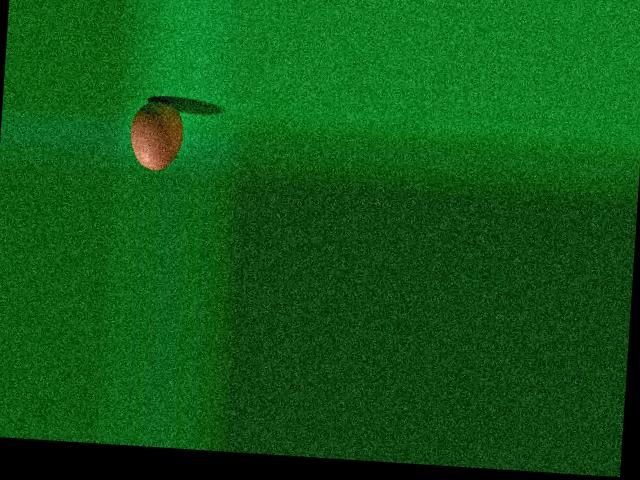egg: (128, 98, 185, 171)
